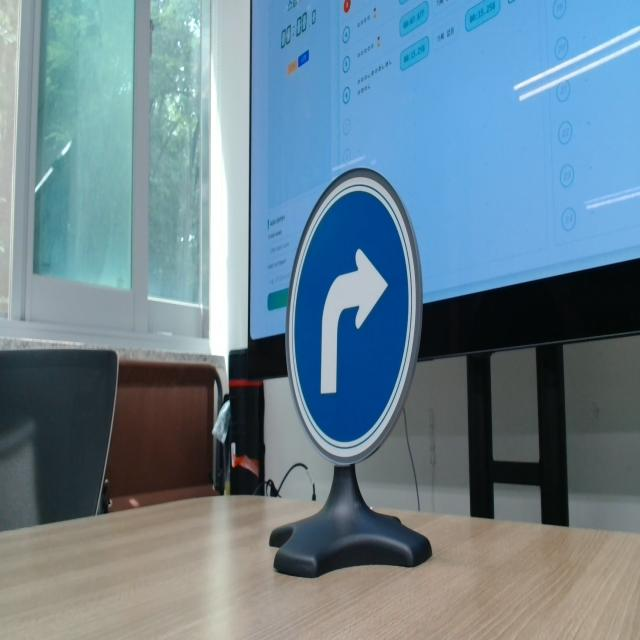right_dierection: (283, 162, 424, 466)
